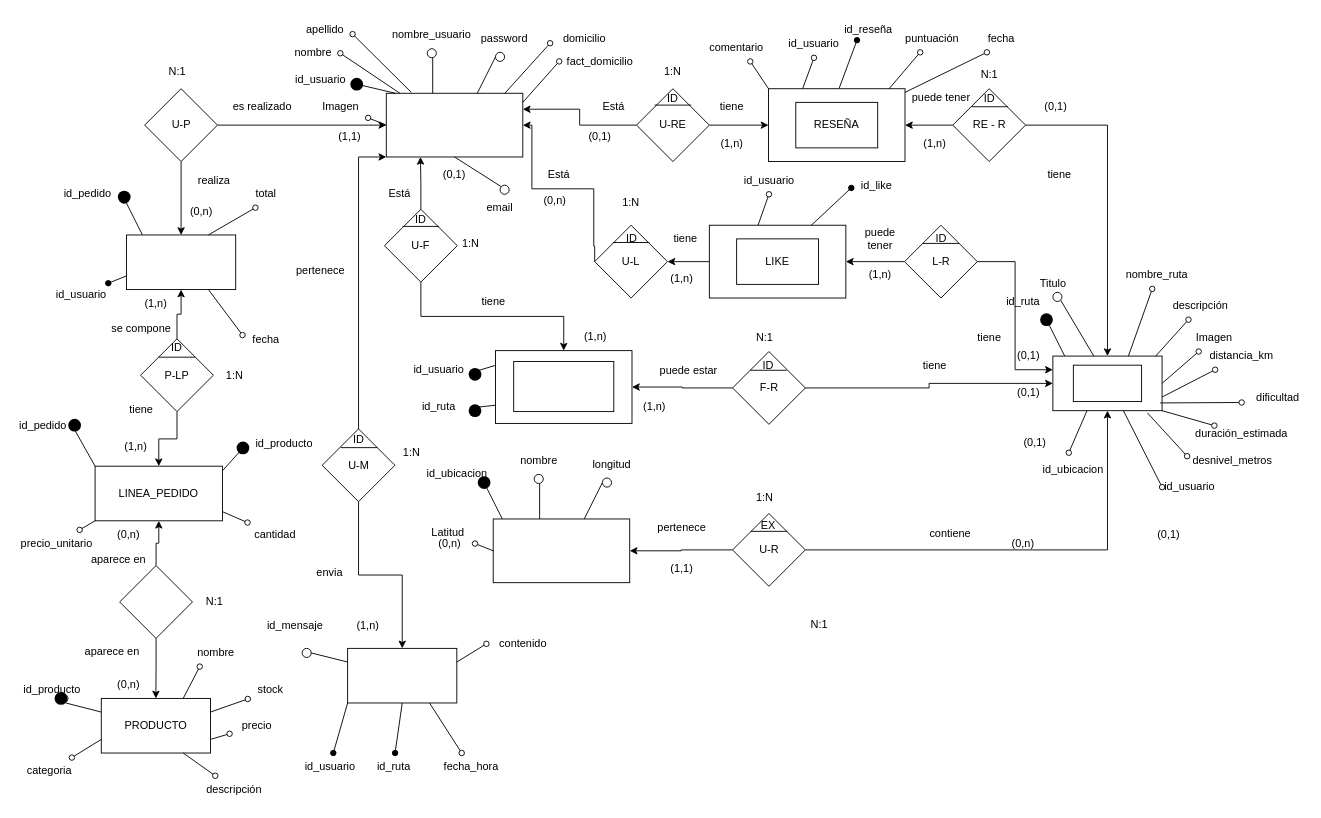
This 1321x818 diagram has some shape labels left out. The centre of each missing label's shape, as x and y in pixels:
"FAVORITO" belongs at point (563, 386).
"LP-PR" belongs at point (155, 601).
"MENSAJE" belongs at point (402, 675).
"PEDIDO" belongs at point (181, 262).
"RUTA" belongs at point (1107, 383).
"UBICACION" belongs at point (561, 550).
"USUARIO" belongs at point (454, 124).
